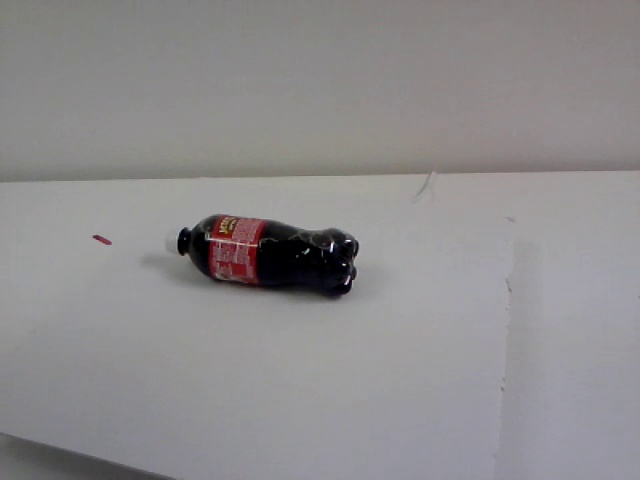botolplastik: (168, 215, 358, 298)
